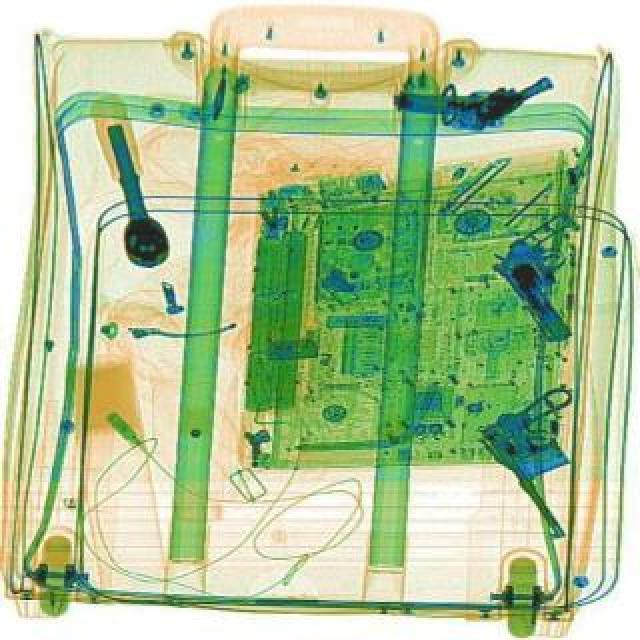gun: (474, 380, 638, 544), (482, 202, 636, 354), (388, 60, 556, 134)
